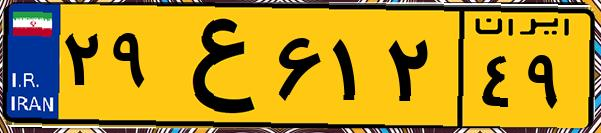1: (330, 28, 385, 110)
2: (385, 28, 445, 110), (57, 26, 110, 100)
4: (475, 38, 525, 113)
6: (270, 28, 330, 110)
9: (525, 38, 570, 115), (110, 28, 158, 98)
ع: (158, 12, 270, 120)
